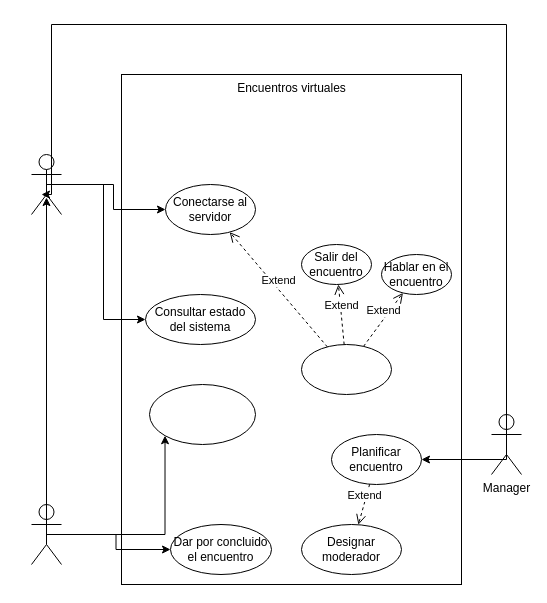
The diagram is 547 pixels wide and 603 high, and some of its shapes have lost their labels. The shapes that lost their labels are listed below. From the top down, each one's centre as x and y in pixels, then its label:
At pixel 46 184: "Usuario".
At pixel 346 369: "Entrar en el encuentro".
At pixel 202 414: "Asignar turnos de palabra".
At pixel 46 534: "Moderador".
